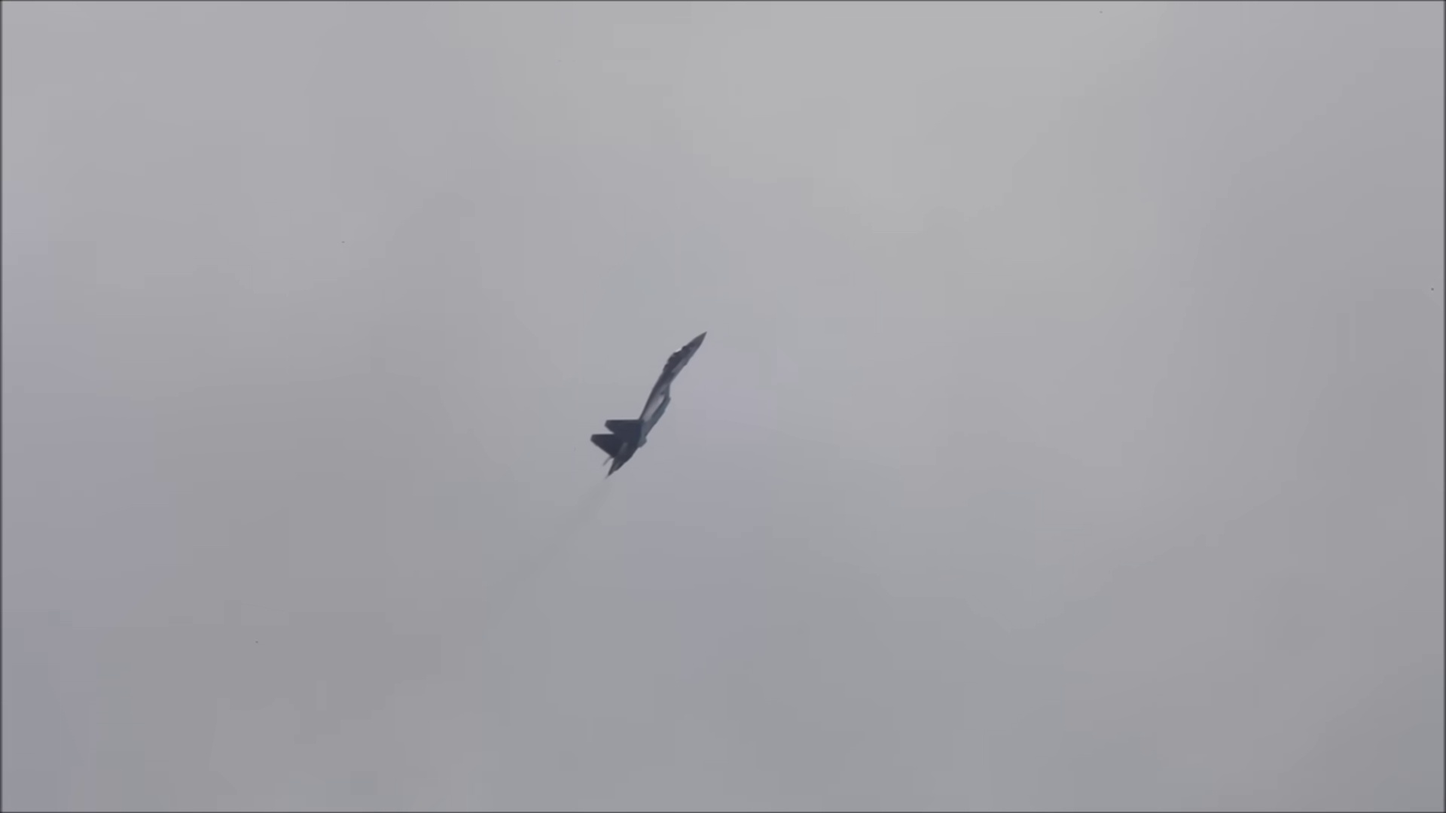Su35: (575, 326, 710, 490)
